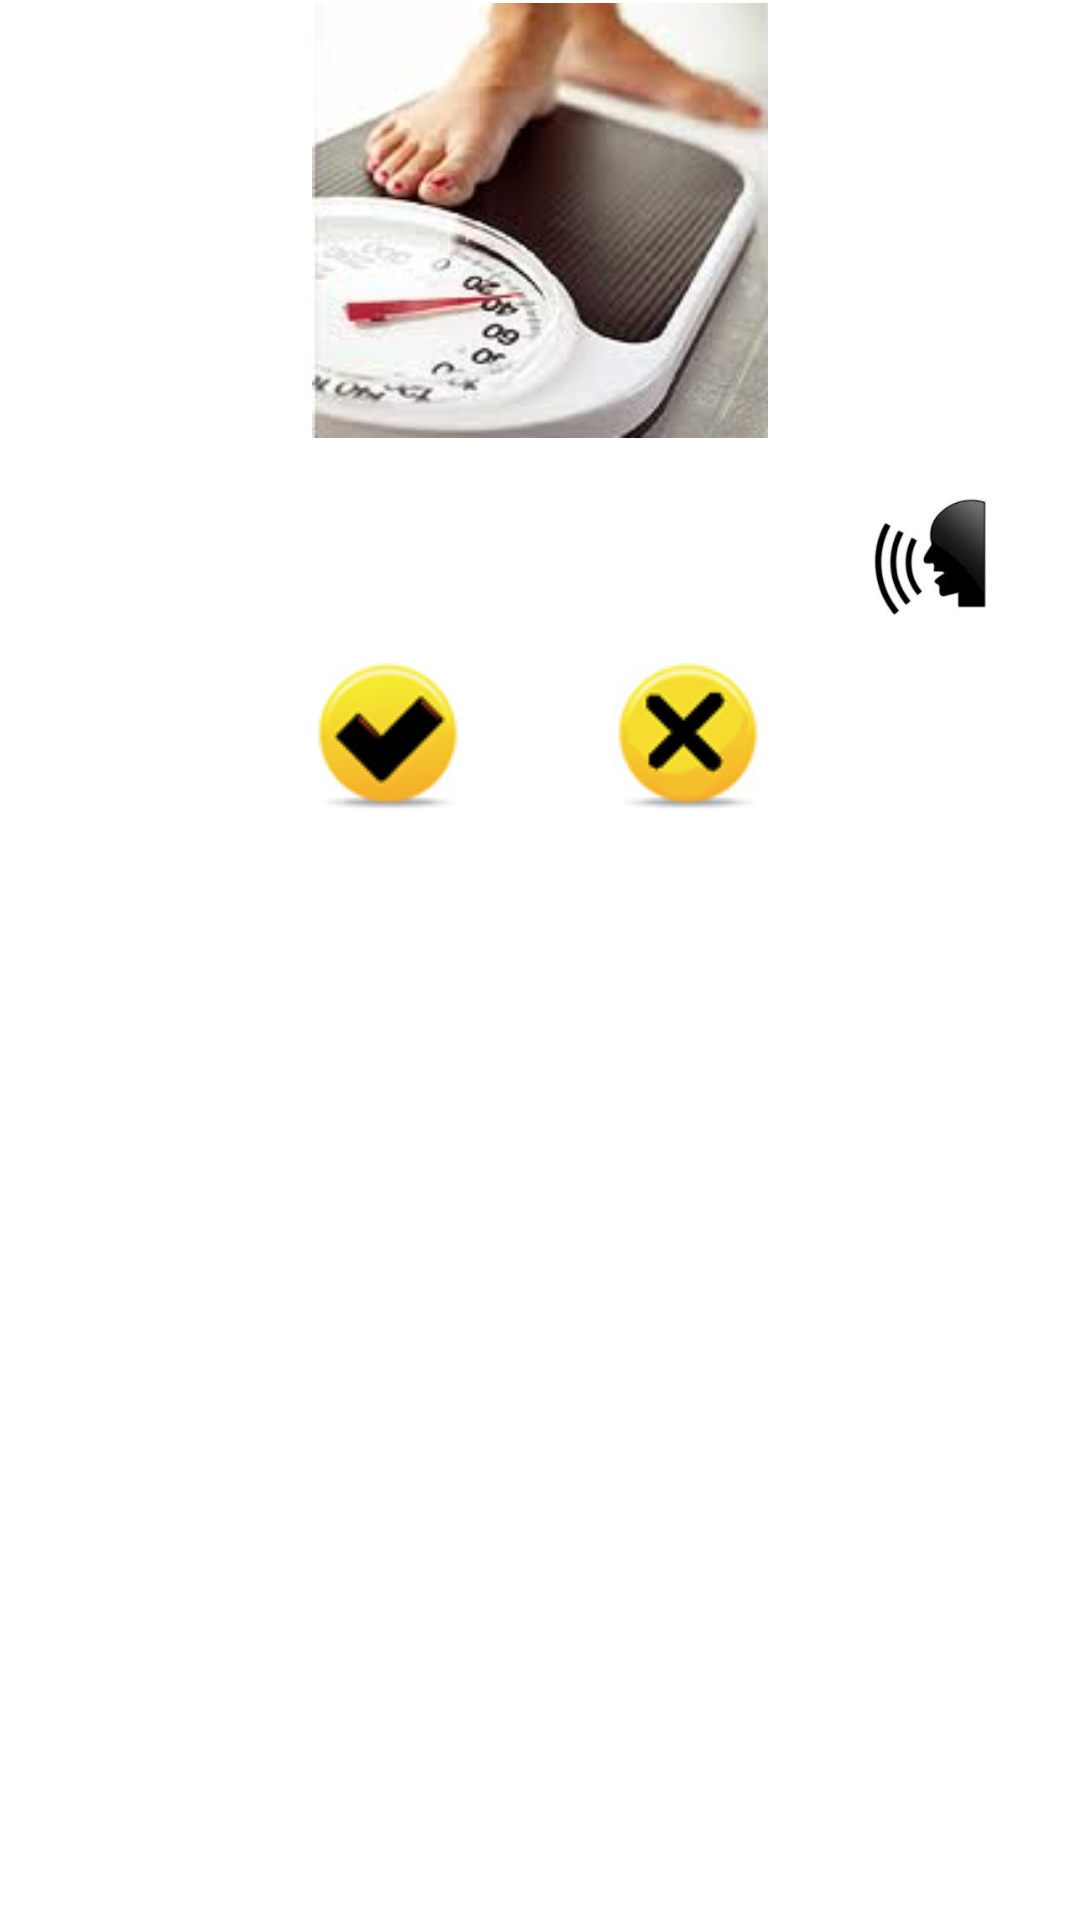

Icons on this 1080px x 1920px Android screen, each with its box as (left=x1, top=y1, right=x2, bottom=y2):
approve: (left=318, top=663, right=458, bottom=808)
remove: (left=618, top=663, right=758, bottom=808)
Sound Icon: (left=874, top=499, right=986, bottom=615)
